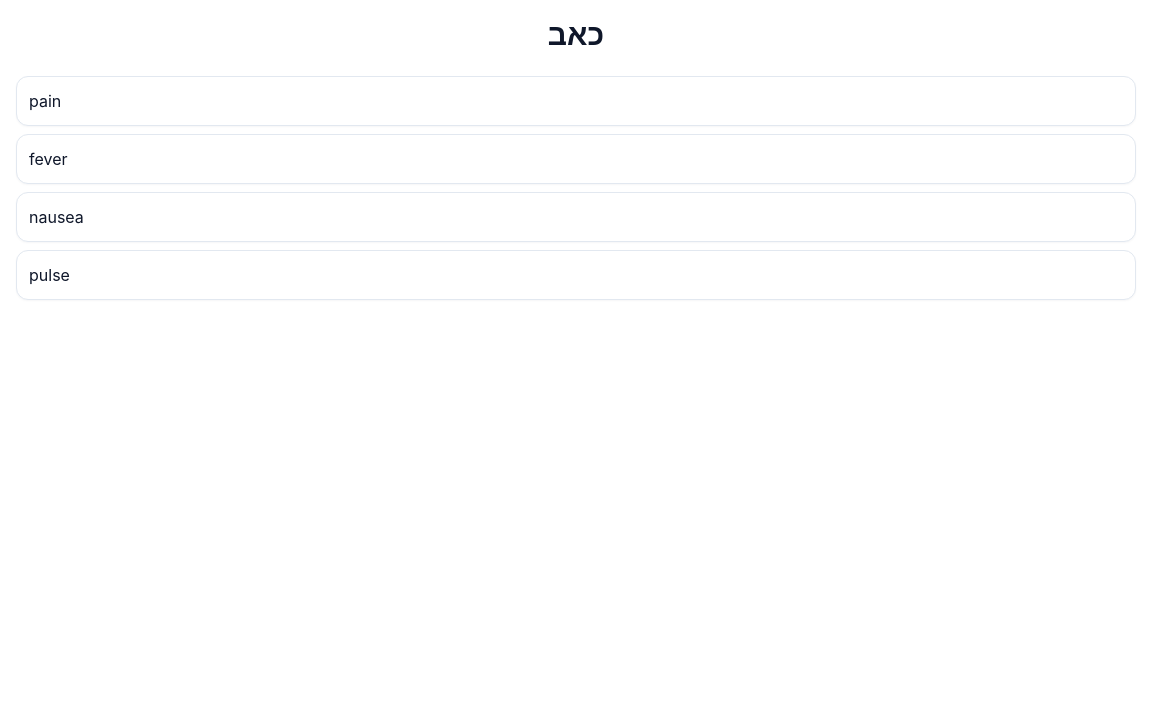
ReviewPage › runs through due cards and shows the summary
Click the button with test id "exercise-(option|tile)-" at (45, 101), box x1=16 y1=76 x2=1136 y2=126
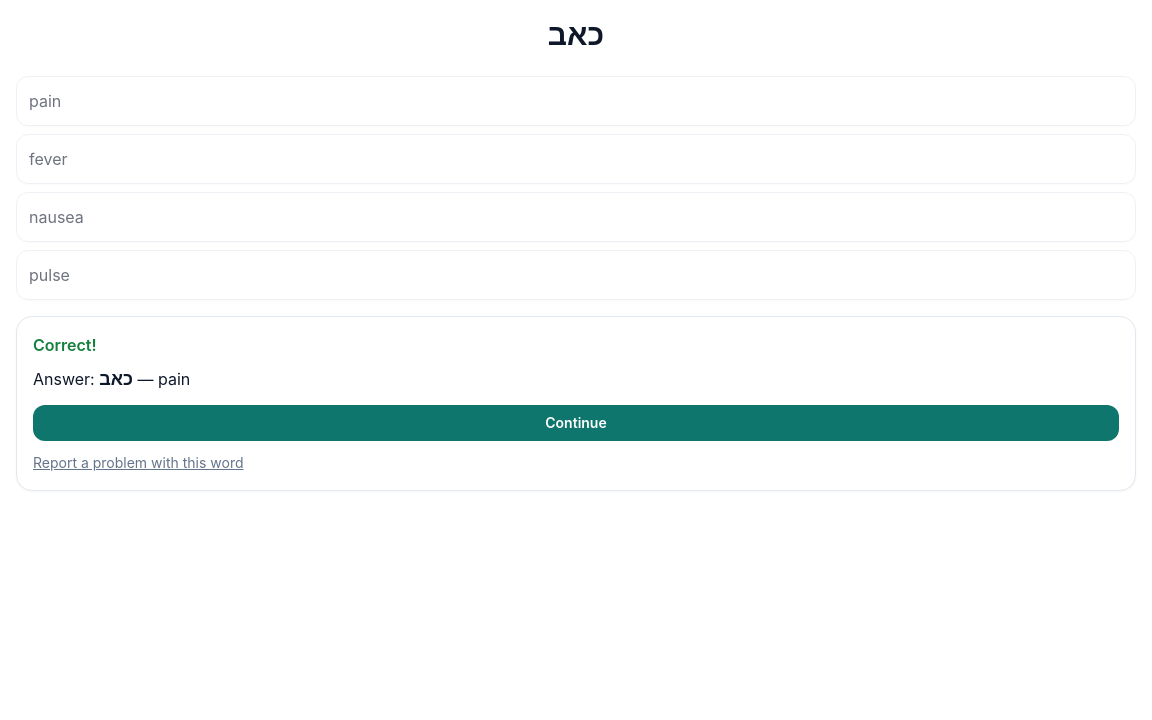
Click the button with test id "exercise-continue" at (576, 423), box x1=33 y1=405 x2=1119 y2=441
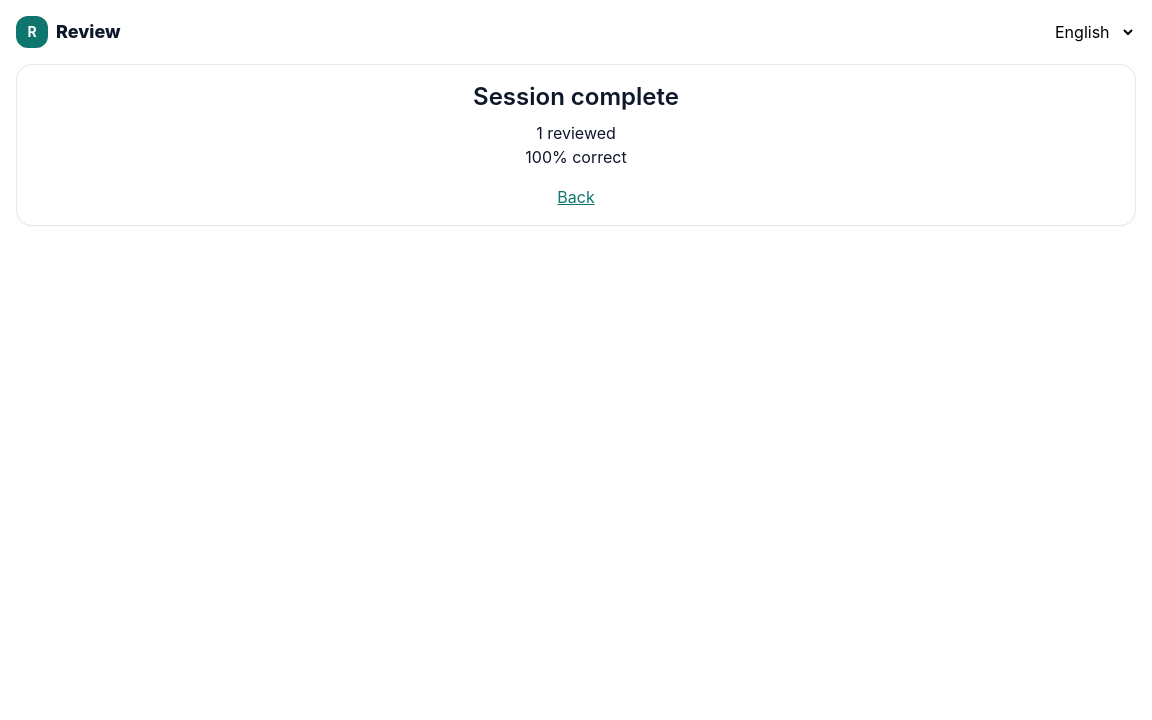
Result: the element with test id "review-summary" is shown at x1=16 y1=64 x2=1136 y2=226
